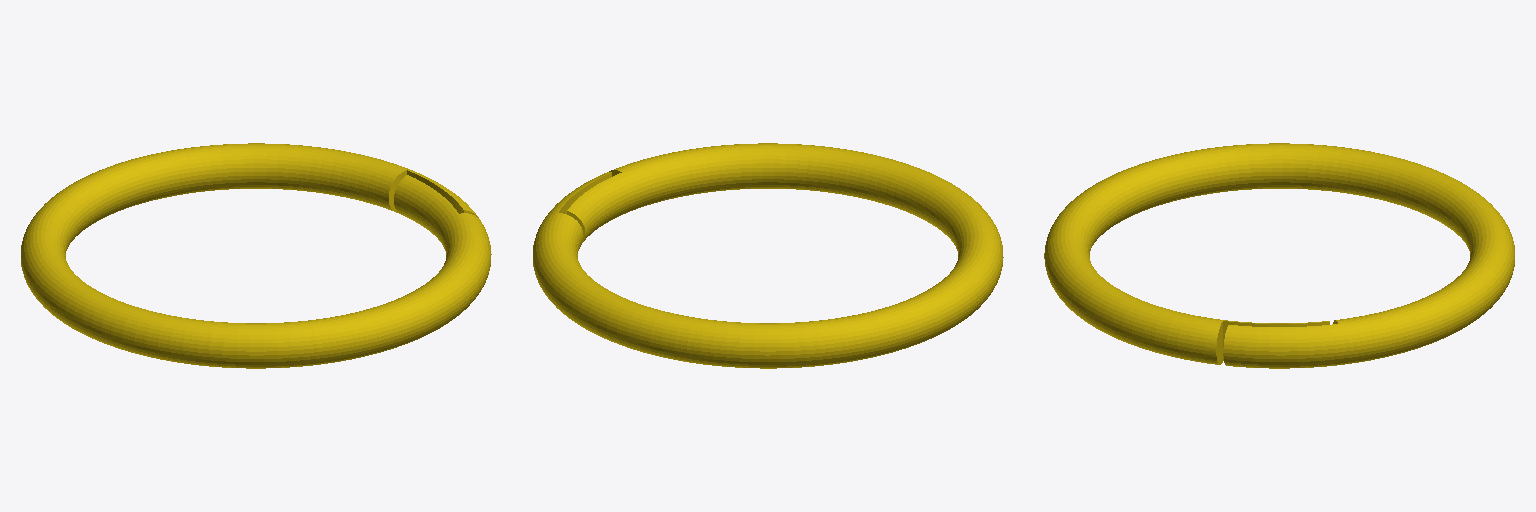
The robot description file, URDF, robot "cb_keyring":
<?xml version="1.0"?>
<!-- ContactBench keyring. Generated by FoundationTouch tools/contactbench/make_contactbench_assets.py -->
<robot name="cb_keyring">
  <material name="c"><color rgba="0.85 0.75 0.10 1.0"/></material>
  <link name="object">
    <visual><origin xyz="0 0 0" rpy="0 0 0"/><geometry><mesh filename="keyring.obj" scale="1 1 1"/></geometry><material name="c"/></visual>
    <collision><origin xyz="0 0 0" rpy="0 0 0"/><geometry><mesh filename="coll_00.obj" scale="1 1 1"/></geometry></collision>
    <collision><origin xyz="0 0 0" rpy="0 0 0"/><geometry><mesh filename="coll_01.obj" scale="1 1 1"/></geometry></collision>
    <collision><origin xyz="0 0 0" rpy="0 0 0"/><geometry><mesh filename="coll_02.obj" scale="1 1 1"/></geometry></collision>
    <collision><origin xyz="0 0 0" rpy="0 0 0"/><geometry><mesh filename="coll_03.obj" scale="1 1 1"/></geometry></collision>
    <collision><origin xyz="0 0 0" rpy="0 0 0"/><geometry><mesh filename="coll_04.obj" scale="1 1 1"/></geometry></collision>
    <collision><origin xyz="0 0 0" rpy="0 0 0"/><geometry><mesh filename="coll_05.obj" scale="1 1 1"/></geometry></collision>
    <collision><origin xyz="0 0 0" rpy="0 0 0"/><geometry><mesh filename="coll_06.obj" scale="1 1 1"/></geometry></collision>
    <collision><origin xyz="0 0 0" rpy="0 0 0"/><geometry><mesh filename="coll_07.obj" scale="1 1 1"/></geometry></collision>
    <collision><origin xyz="0 0 0" rpy="0 0 0"/><geometry><mesh filename="coll_08.obj" scale="1 1 1"/></geometry></collision>
    <collision><origin xyz="0 0 0" rpy="0 0 0"/><geometry><mesh filename="coll_09.obj" scale="1 1 1"/></geometry></collision>
    <collision><origin xyz="0 0 0" rpy="0 0 0"/><geometry><mesh filename="coll_10.obj" scale="1 1 1"/></geometry></collision>
    <collision><origin xyz="0 0 0" rpy="0 0 0"/><geometry><mesh filename="coll_11.obj" scale="1 1 1"/></geometry></collision>
    <collision><origin xyz="0 0 0" rpy="0 0 0"/><geometry><mesh filename="coll_12.obj" scale="1 1 1"/></geometry></collision>
    <collision><origin xyz="0 0 0" rpy="0 0 0"/><geometry><mesh filename="coll_13.obj" scale="1 1 1"/></geometry></collision>
    <collision><origin xyz="0 0 0" rpy="0 0 0"/><geometry><mesh filename="coll_14.obj" scale="1 1 1"/></geometry></collision>
    <collision><origin xyz="0 0 0" rpy="0 0 0"/><geometry><mesh filename="coll_15.obj" scale="1 1 1"/></geometry></collision>
    <collision><origin xyz="0 0 0" rpy="0 0 0"/><geometry><mesh filename="coll_16.obj" scale="1 1 1"/></geometry></collision>
    <collision><origin xyz="0 0 0" rpy="0 0 0"/><geometry><mesh filename="coll_17.obj" scale="1 1 1"/></geometry></collision>
    <collision><origin xyz="0 0 0" rpy="0 0 0"/><geometry><mesh filename="coll_18.obj" scale="1 1 1"/></geometry></collision>
    <collision><origin xyz="0 0 0" rpy="0 0 0"/><geometry><mesh filename="coll_19.obj" scale="1 1 1"/></geometry></collision>
    <collision><origin xyz="0 0 0" rpy="0 0 0"/><geometry><mesh filename="coll_20.obj" scale="1 1 1"/></geometry></collision>
    <collision><origin xyz="0 0 0" rpy="0 0 0"/><geometry><mesh filename="coll_21.obj" scale="1 1 1"/></geometry></collision>
    <collision><origin xyz="0 0 0" rpy="0 0 0"/><geometry><mesh filename="coll_22.obj" scale="1 1 1"/></geometry></collision>
    <collision><origin xyz="0 0 0" rpy="0 0 0"/><geometry><mesh filename="coll_23.obj" scale="1 1 1"/></geometry></collision>
    <inertial><mass value="0.000437"/><origin xyz="0 0 0" rpy="0 0 0"/><inertia ixx="3.124679e-08" ixy="-6.934903e-12" ixz="-6.365129e-17" iyy="2.994350e-08" iyz="-1.846059e-17" izz="6.085229e-08"/></inertial>
  </link>
</robot>

--- Facts derived from the render (not from the file) ---
The picture shows the robot from 3 angles, left to right: view 1: azimuth 30°, elevation 25°; view 2: azimuth 150°, elevation 25°; view 3: azimuth 270°, elevation 25°; orthographic projection.
Model cb_keyring with 1 links and 0 joints (none), rooted at object, posed every joint at zero.
Links seen in each view (by area): view 1: object; view 2: object; view 3: object.
Link boxes in pixels (x1,y1,x2,y2): object: (21, 143, 491, 368); object: (533, 143, 1003, 368); object: (1044, 143, 1514, 368).
Size in the robot's own frame: 0.026 by 0.026 by 0.0025 metres.
Meshes: 1 distinct files referenced, 1 mesh visuals loaded (1 OBJ).
